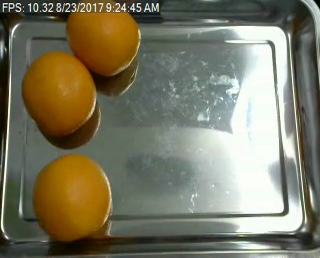Orange: (32, 152, 111, 239), (23, 51, 97, 133), (66, 1, 142, 76)
